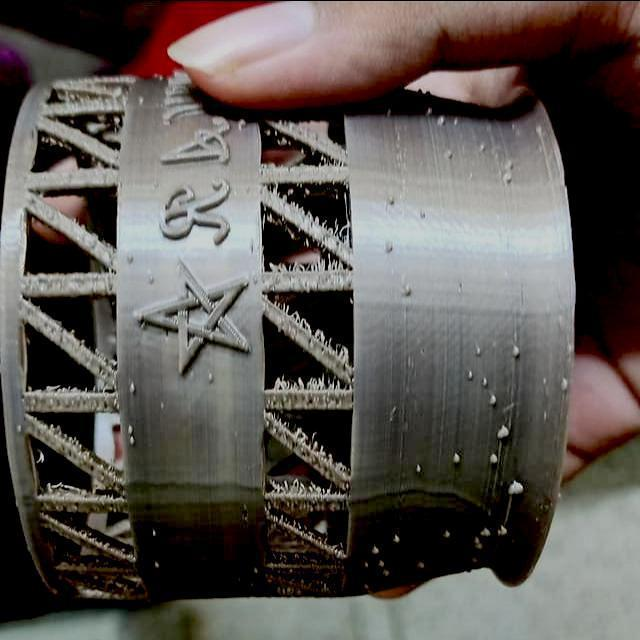zits: (506, 478, 528, 500), (496, 517, 514, 542), (494, 167, 516, 186), (496, 419, 514, 441), (149, 552, 166, 574), (380, 233, 398, 253), (438, 524, 458, 542), (204, 369, 218, 394), (440, 144, 458, 163), (554, 376, 572, 394), (508, 342, 524, 362), (472, 340, 488, 360), (126, 376, 140, 398), (448, 448, 468, 463), (400, 282, 416, 300), (474, 525, 492, 541), (489, 448, 502, 470), (148, 523, 162, 543), (434, 113, 450, 130), (414, 555, 428, 574), (392, 526, 404, 546), (411, 460, 425, 476), (478, 371, 490, 389), (488, 394, 500, 412), (462, 366, 476, 381), (124, 421, 140, 434), (126, 433, 140, 447), (370, 542, 382, 556)
